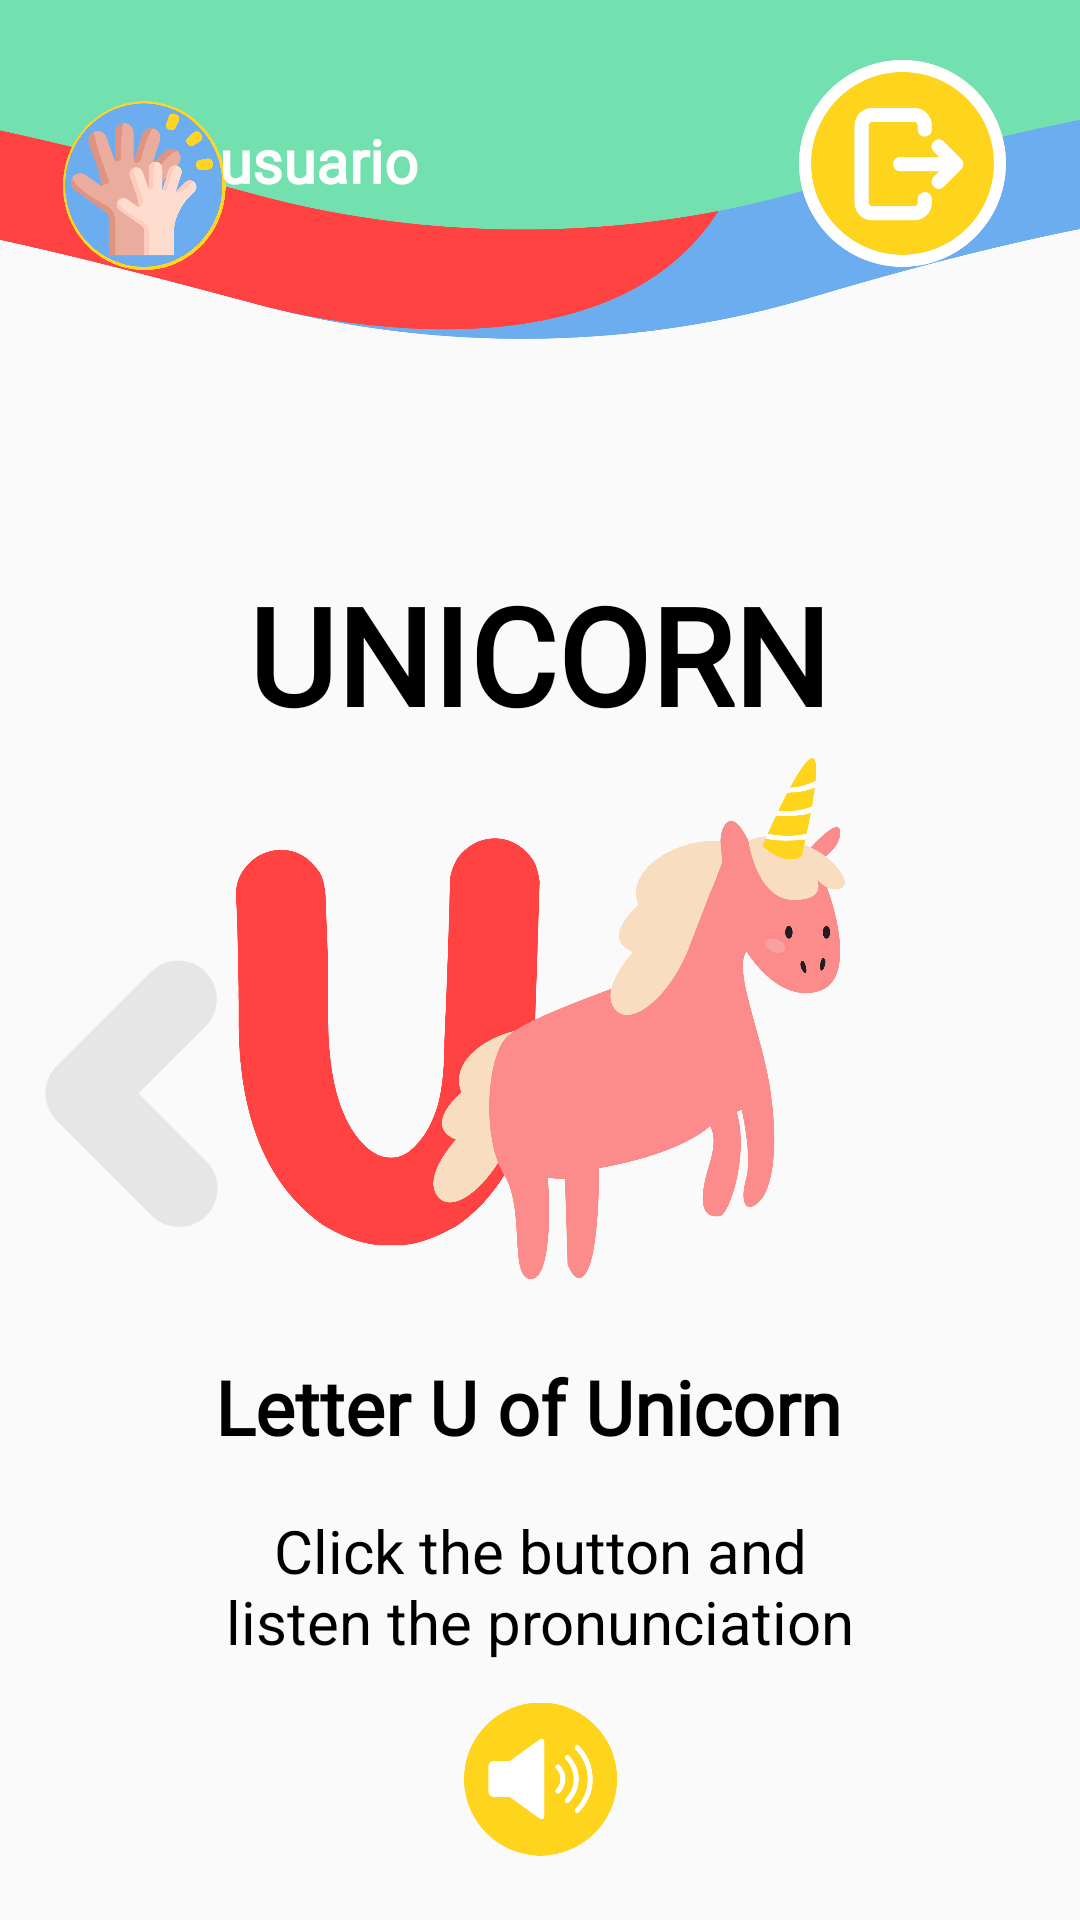

Where to tap for icons on this 1080*1920 app screen, as point (x, y):
salir: point (902, 163)
sonido: point (540, 1779)
